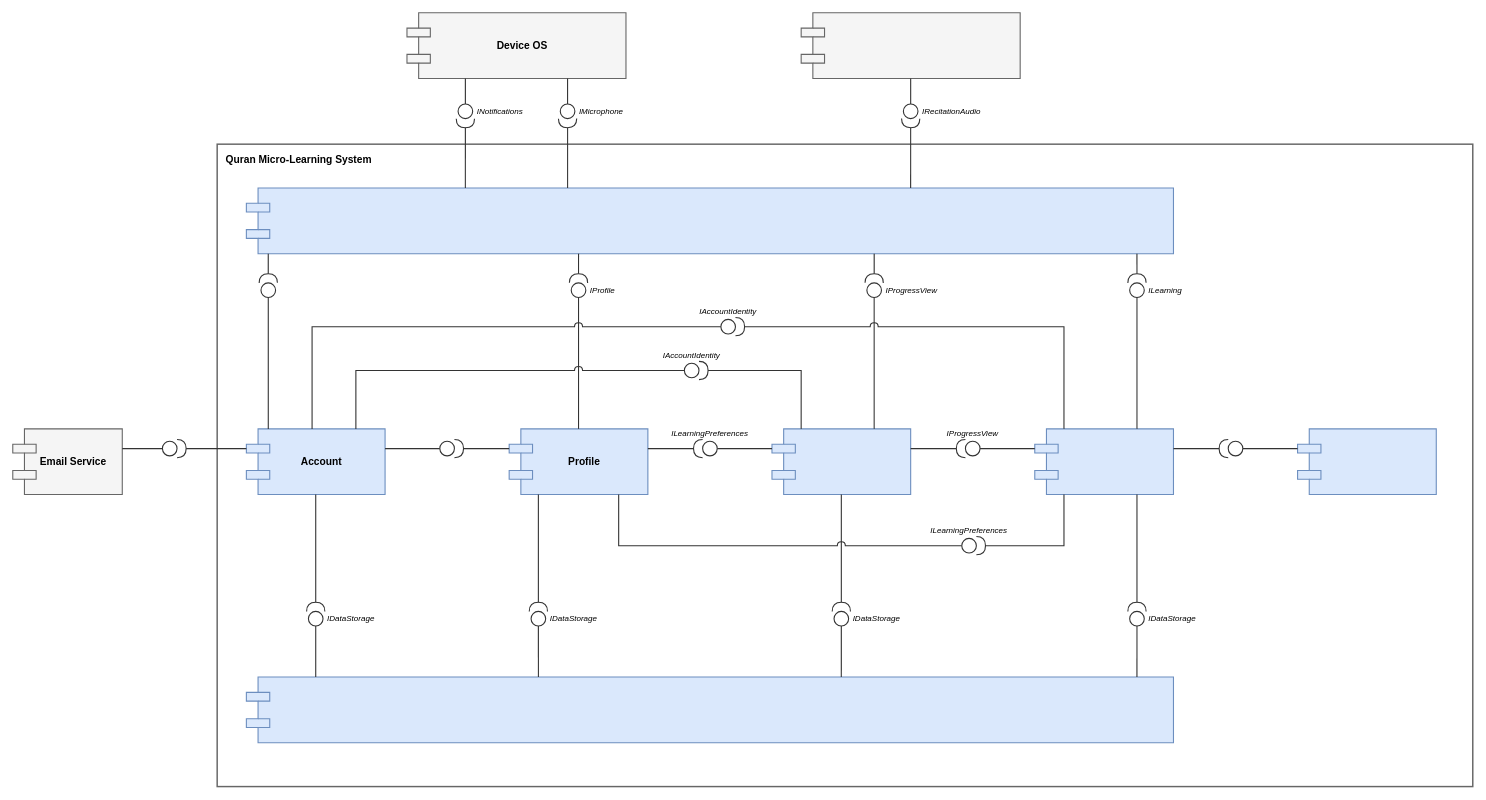
Some shapes in this 1486 by 800 pixel diagram are drawn without their labels. The box of each missing label's shape, as (x1, y1, x2, y2) in pixels:
Database: (245, 676, 1174, 743)
IAccount: (260, 282, 276, 298)
IEmailDelivery: (162, 440, 177, 456)
IRecitationEvaluation: (1227, 440, 1243, 456)
ISessionCheck: (439, 440, 455, 456)
Learning: (1034, 428, 1174, 495)
Mobile App: (245, 187, 1174, 254)
Progress: (771, 428, 911, 495)
QUL: (800, 12, 1020, 79)
Recitation Evaluation: (1297, 428, 1436, 495)
